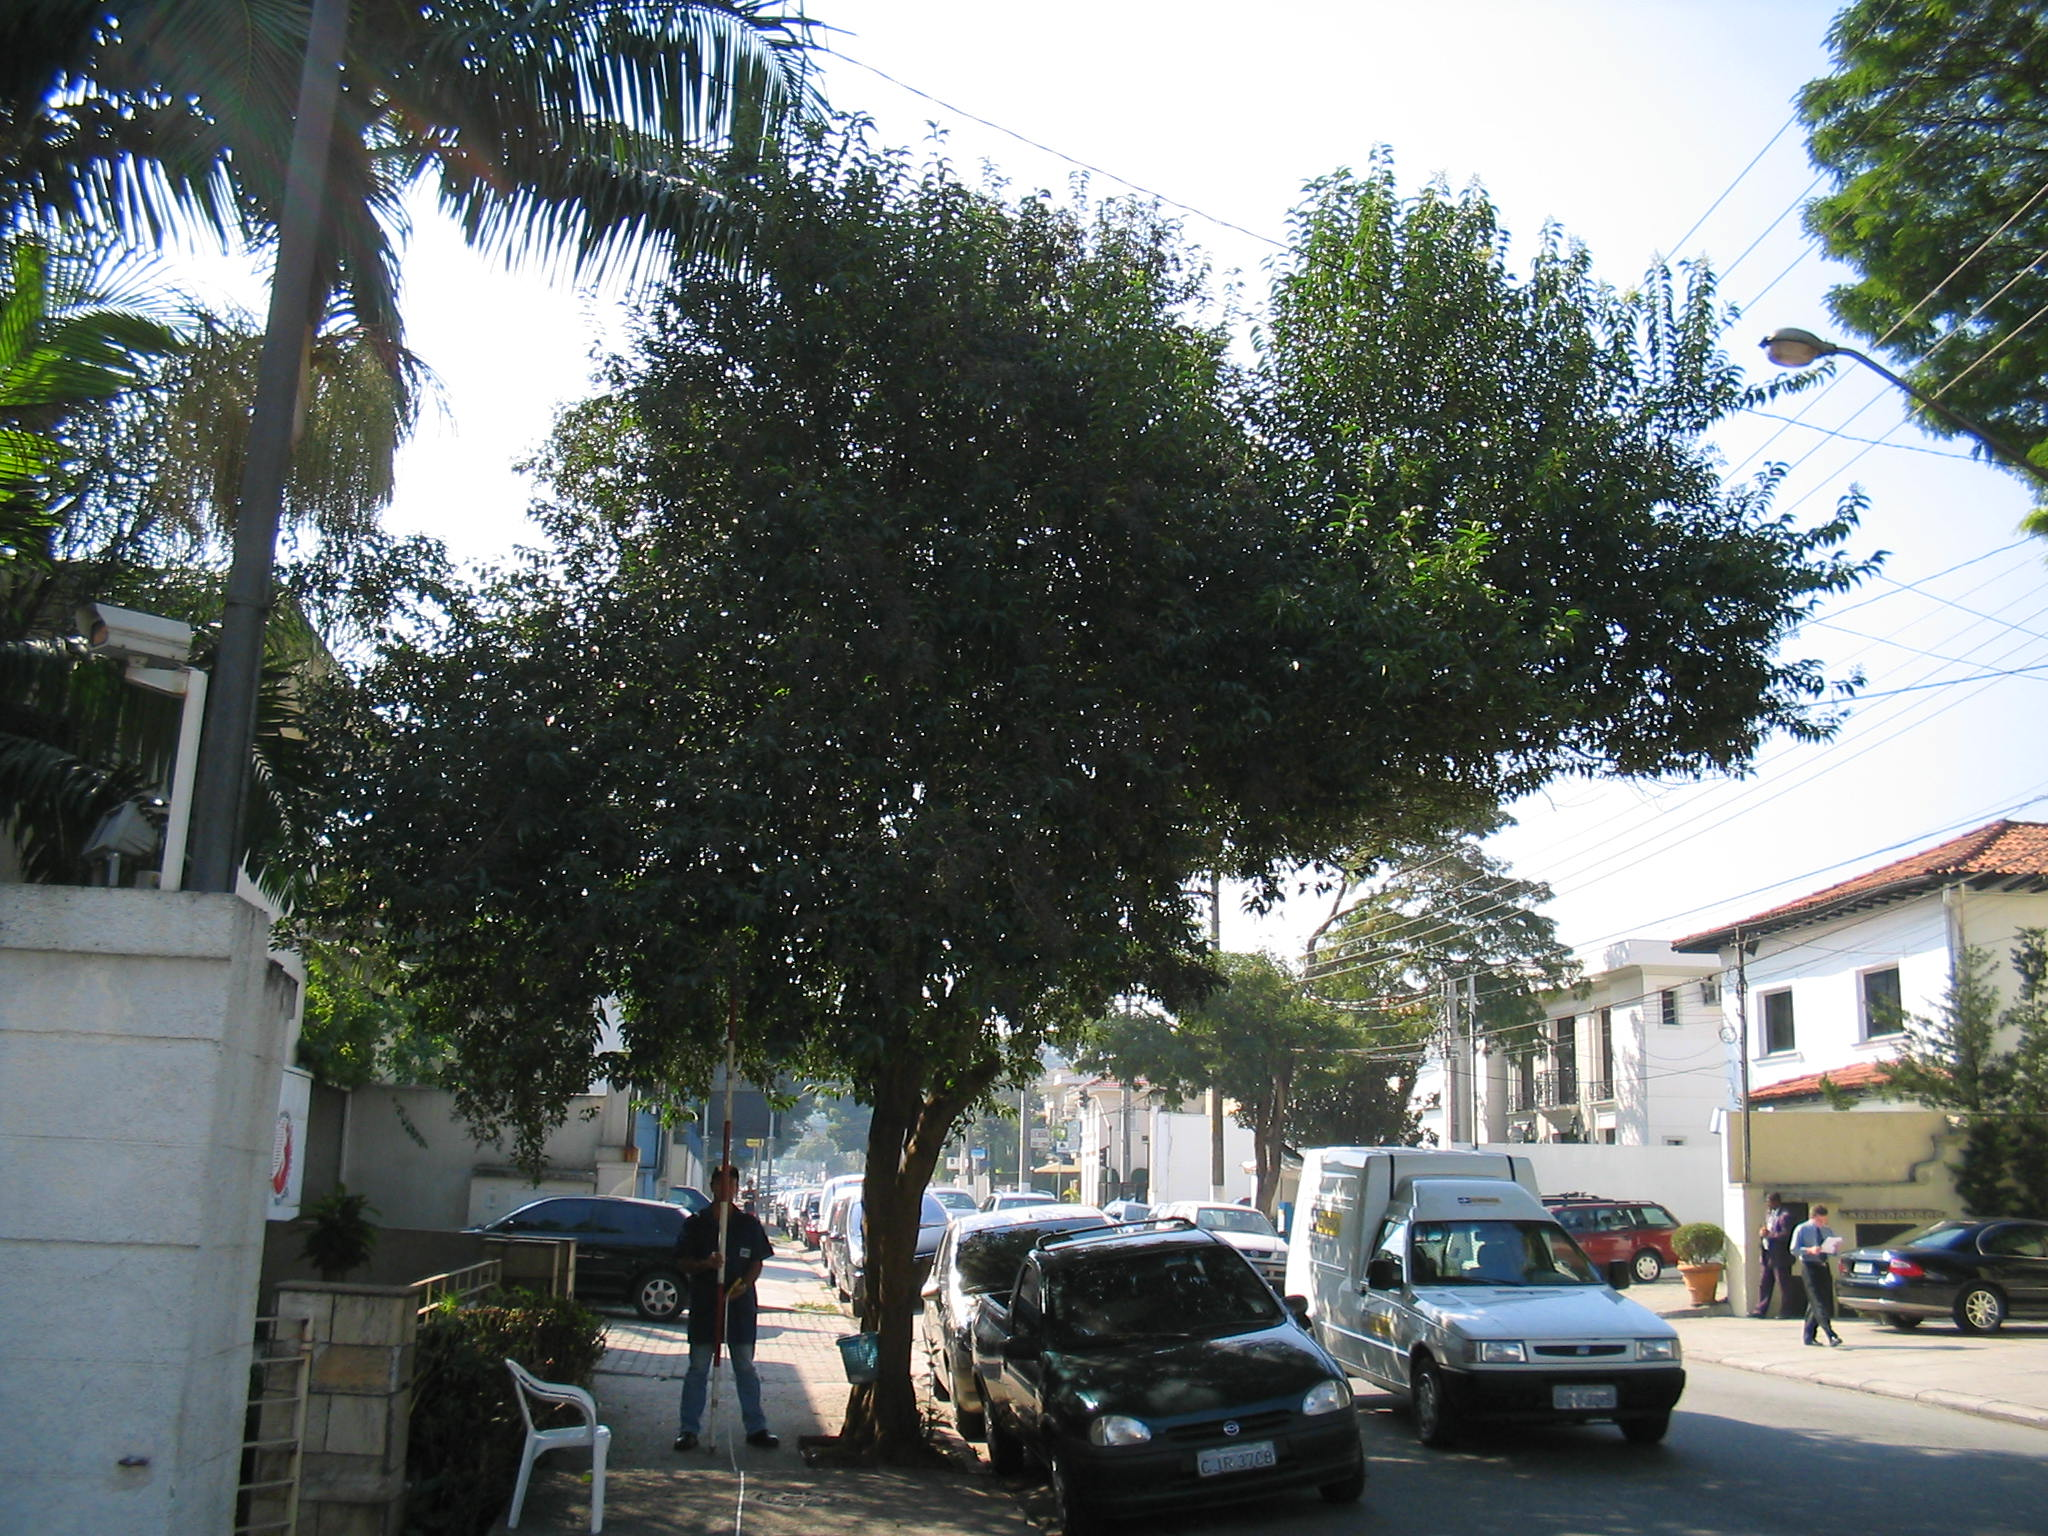crown: (284, 106, 1888, 1118)
stem: (827, 1192, 948, 1455)
stick: (689, 962, 748, 1467)
tree: (281, 105, 1893, 1454), (1093, 958, 1434, 1218)
